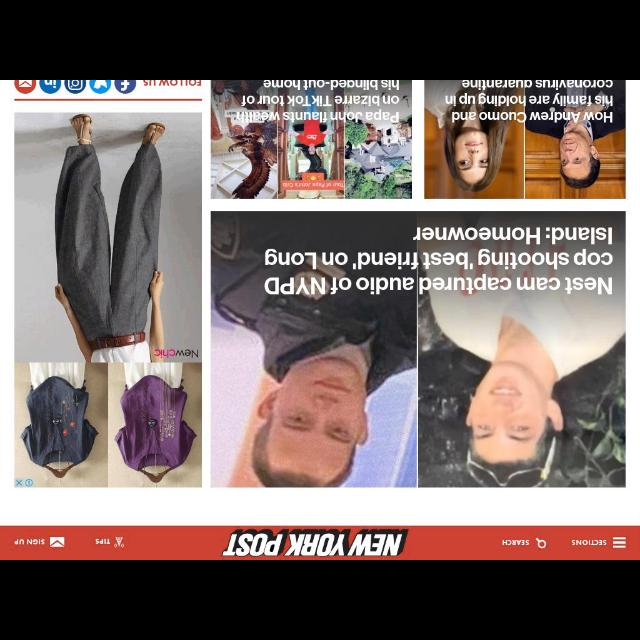icon: (612, 536, 626, 550), (50, 536, 66, 548), (536, 536, 546, 548), (114, 536, 124, 548)
iframe: (15, 363, 202, 487)
image: (211, 213, 625, 487), (13, 114, 200, 362), (424, 81, 626, 199), (212, 81, 410, 199), (222, 528, 406, 558), (39, 81, 61, 93), (115, 81, 136, 93), (90, 81, 110, 93), (66, 81, 86, 93), (16, 81, 36, 93)
text: (572, 538, 608, 546), (502, 538, 530, 546), (96, 538, 110, 546), (16, 540, 44, 544)
toolbar: (1, 526, 639, 558)
